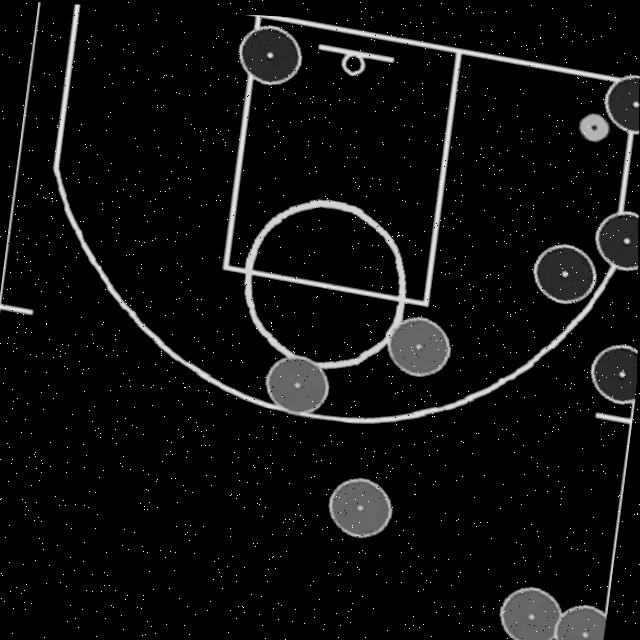Basketball: (577, 103, 611, 136)
Team_A: (237, 21, 301, 80), (533, 236, 596, 295), (590, 336, 638, 395), (595, 202, 639, 261), (604, 66, 640, 125)
Team_B: (386, 310, 450, 370), (329, 472, 392, 532), (265, 350, 328, 408), (500, 579, 561, 638), (555, 596, 607, 640)
